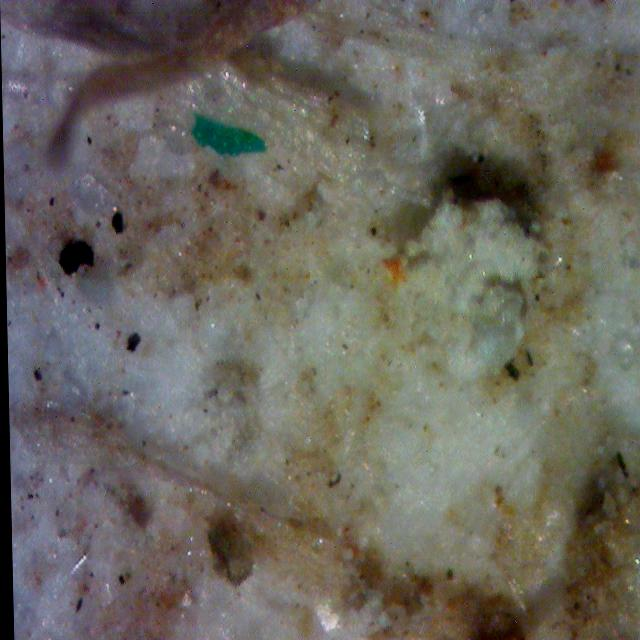microplastic: (181, 112, 269, 169)
